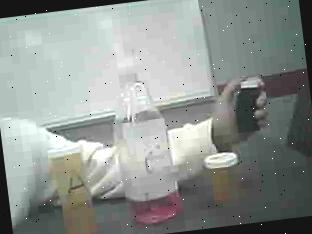Bottle A: (42, 138, 106, 234)
Bottle B: (201, 148, 246, 211)
Bottle C: (227, 69, 274, 136)
hazard: (98, 21, 194, 232)
